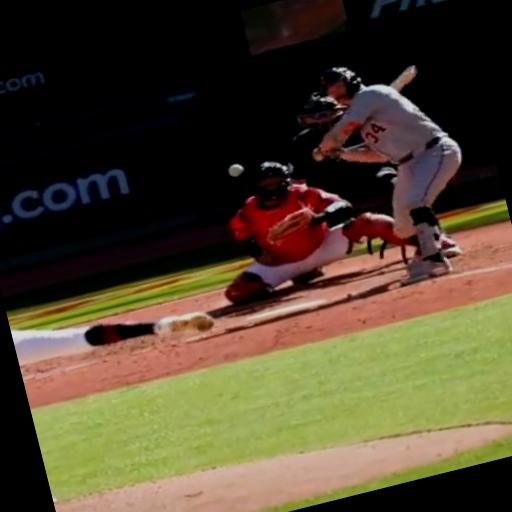bat: (384, 65, 416, 92)
